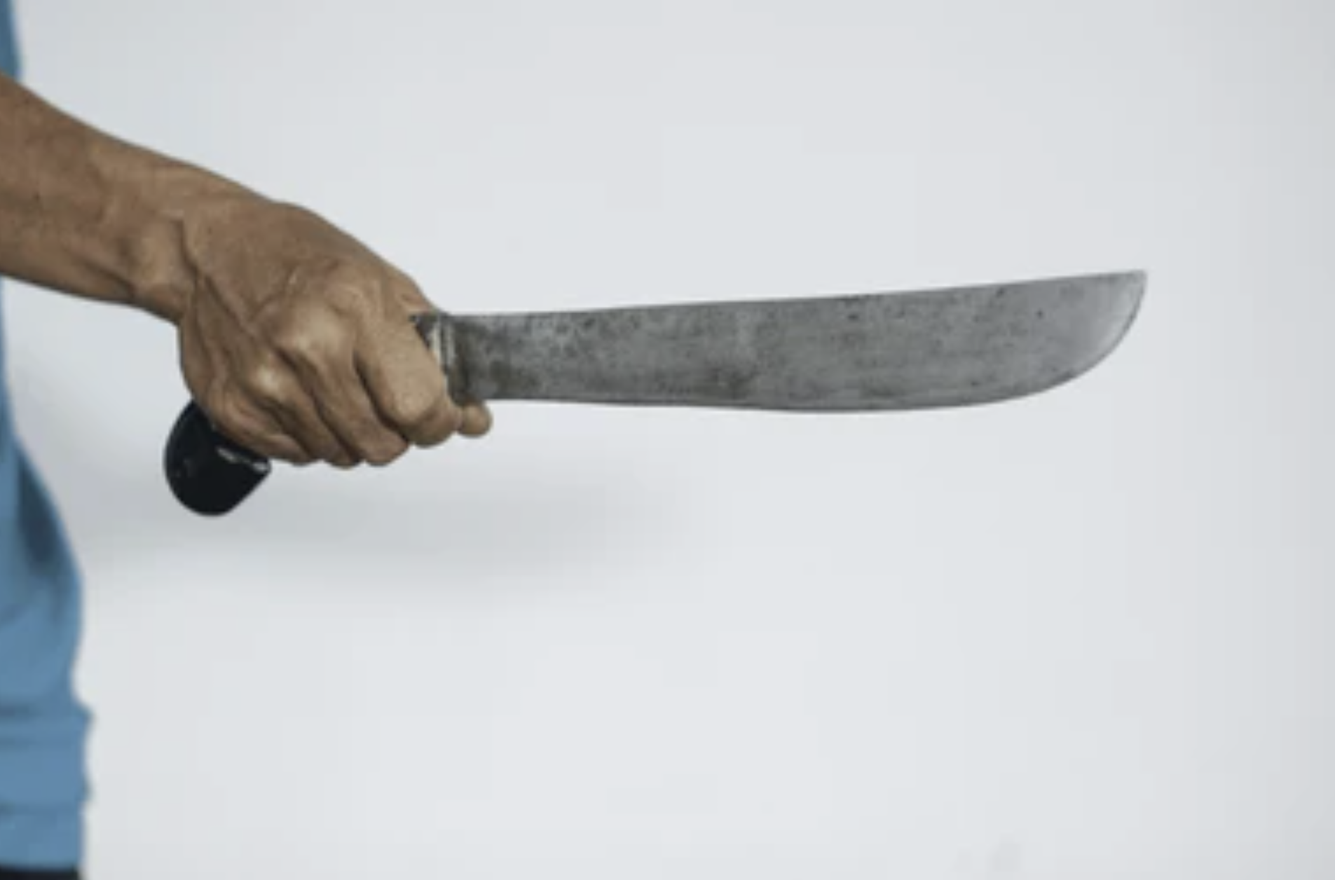knife_48.png: (166, 259, 1161, 503)
